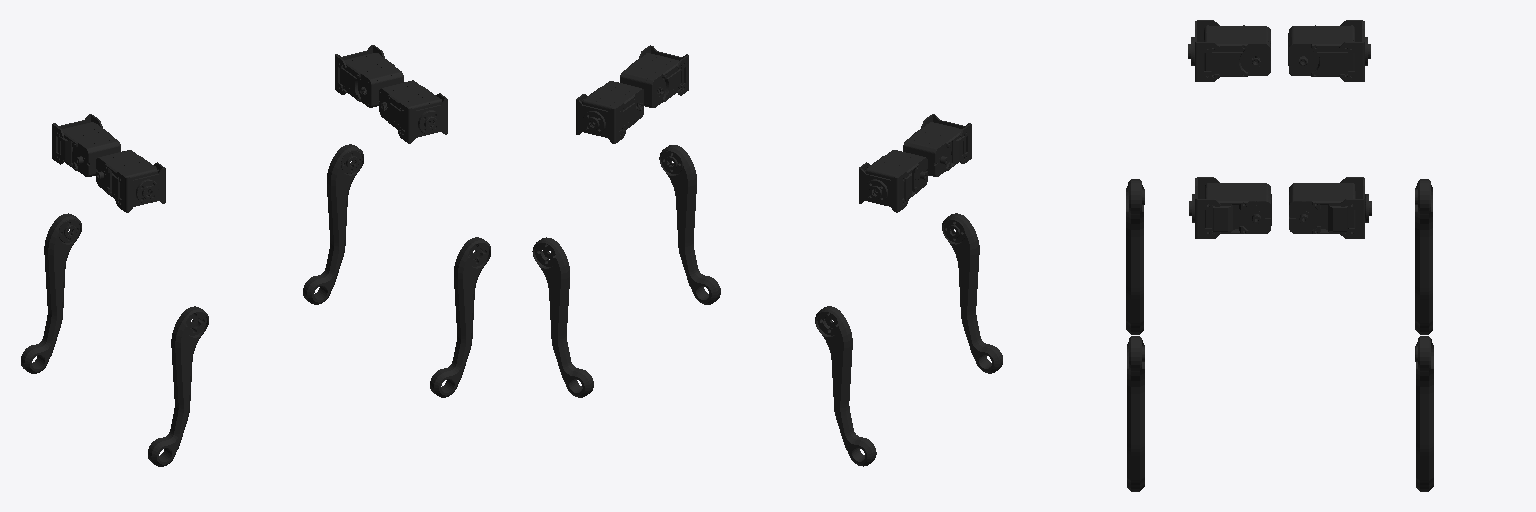
The robot description file, URDF, robot "barq":
<?xml version="1.0" ?>
<robot name="barq">

  <material name="dark_grey">  <color rgba="0.20 0.20 0.20 1.0"/> </material>
  <material name="light_grey"> <color rgba="0.65 0.65 0.65 1.0"/> </material>

  <!-- BASE LINK -->
  <link name="base_link">
    <visual>
      <origin rpy="0 0 -1.5708" xyz="0 0 0"/>
      <geometry><mesh filename="base_link.dae" scale="1 1 1"/></geometry>
      <material name="light_grey"/>
    </visual>
    <collision>
      <origin rpy="0 0 0" xyz="0 0 0"/>
      <geometry><box size="0.258 0.117 0.085"/></geometry>
    </collision>
    <inertial>
      <mass value="0.95"/>
      <origin rpy="0 0 0" xyz="0 0 0"/>
      <inertia ixx="3.0e-3" ixy="0" ixz="0" iyy="5.5e-3" iyz="0" izz="6.5e-3"/>
    </inertial>
  </link>

  <!-- ═══════════════ FL LEG ═══════════════ -->
  <joint name="FL_hip_joint" type="revolute">
    <parent link="base_link"/>    <child link="FL_coxa_link"/>
    <origin rpy="0 0 0" xyz="0.108484 0.0171913 0.00022012"/>
    <axis xyz="1 0 0"/>
    <limit effort="10.0" lower="-0.785" upper="0.785" velocity="5.24"/>
    <dynamics damping="0.05" friction="0.0"/>
  </joint>
  <link name="FL_coxa_link">
    <visual>
      <origin rpy="3.14159265358979 0 -1.5708" xyz="0 0 0"/>
      <geometry><mesh filename="coxa.dae" scale="1 1 1"/></geometry>
      <material name="dark_grey"/>
    </visual>
    <collision>
      <origin rpy="3.14159265358979 0 -1.5708" xyz="0 0 0"/>
      <geometry><mesh filename="coxa.dae" scale="1 1 1"/></geometry>
    </collision>
    <inertial>
      <mass value="0.077"/>
      <origin rpy="0 0 0" xyz="0.00872 0.0215346 0"/>
      <inertia ixx="1.0e-5" ixy="0" ixz="0" iyy="1.0e-4" iyz="0" izz="1.0e-4"/>
    </inertial>
  </link>

  <joint name="FL_knee_joint" type="revolute">
    <parent link="FL_coxa_link"/>    <child link="FL_femur_link"/>
    <origin rpy="0 0 0" xyz="0.01744 0.0430692 0"/>
    <axis xyz="0 1 0"/>
    <limit effort="10.0" lower="-1.57" upper="1.57" velocity="5.24"/>
    <dynamics damping="0.05" friction="0.0"/>
  </joint>
  <link name="FL_femur_link">
    <visual>
      <origin rpy="0 0 -1.5708" xyz="0 0 0"/>
      <geometry><mesh filename="mid.dae" scale="1 1 1"/></geometry>
      <material name="dark_grey"/>
    </visual>
    <collision>
      <origin rpy="0 0 -1.5708" xyz="0 0 0"/>
      <geometry><mesh filename="mid.dae" scale="1 1 1"/></geometry>
    </collision>
    <inertial>
      <mass value="0.05"/>
      <origin rpy="0 0 0" xyz="0.009472 0.01769995 -0.04999995"/>
      <inertia ixx="1.0e-4" ixy="0" ixz="0" iyy="1.0e-4" iyz="0" izz="1.0e-5"/>
    </inertial>
  </link>

  <joint name="FL_ankle_joint" type="revolute">
    <parent link="FL_femur_link"/>    <child link="FL_tibia_link"/>
    <origin rpy="0 0 0" xyz="0.018944 0.03239997 -0.0999999"/>
    <axis xyz="0 1 0"/>
    <limit effort="10.0" lower="-1.57" upper="1.57" velocity="5.24"/>
    <dynamics damping="0.05" friction="0.0"/>
  </joint>
  <link name="FL_tibia_link">
    <visual>
      <origin rpy="0 0 -1.5708" xyz="0 0 0"/>
      <geometry><mesh filename="foot.dae" scale="1 1 1"/></geometry>
      <material name="dark_grey"/>
    </visual>
    <collision>
      <origin rpy="0 0 -1.5708" xyz="0 0 0"/>
      <geometry><mesh filename="foot.dae" scale="1 1 1"/></geometry>
    </collision>
    <inertial>
      <mass value="0.05"/>
      <origin rpy="0 0 0" xyz="0 0 -0.04999995"/>
      <inertia ixx="1.0e-4" ixy="0" ixz="0" iyy="1.0e-4" iyz="0" izz="1.0e-5"/>
    </inertial>
  </link>

  <!-- ═══════════════ RL LEG ═══════════════ -->
  <joint name="RL_hip_joint" type="revolute">
    <parent link="base_link"/>    <child link="RL_coxa_link"/>
    <origin rpy="0 0 0" xyz="-0.108371 0.0167905 0.00022176"/>
    <axis xyz="1 0 0"/>
    <limit effort="10.0" lower="-0.785" upper="0.785" velocity="5.24"/>
    <dynamics damping="0.05" friction="0.0"/>
  </joint>
  <link name="RL_coxa_link">
    <visual>
      <origin rpy="0 0 -1.5708" xyz="0 0 0"/>
      <geometry><mesh filename="coxa.dae" scale="1 1 1"/></geometry>
      <material name="dark_grey"/>
    </visual>
    <collision>
      <origin rpy="0 0 -1.5708" xyz="0 0 0"/>
      <geometry><mesh filename="coxa.dae" scale="1 1 1"/></geometry>
    </collision>
    <inertial>
      <mass value="0.077"/>
      <origin rpy="0 0 0" xyz="-0.00872 0.0215346 0"/>
      <inertia ixx="1.0e-5" ixy="0" ixz="0" iyy="1.0e-4" iyz="0" izz="1.0e-4"/>
    </inertial>
  </link>

  <joint name="RL_knee_joint" type="revolute">
    <parent link="RL_coxa_link"/>    <child link="RL_femur_link"/>
    <origin rpy="0 0 0" xyz="-0.01744 0.0430692 0"/>
    <axis xyz="0 1 0"/>
    <limit effort="10.0" lower="-1.57" upper="1.57" velocity="5.24"/>
    <dynamics damping="0.05" friction="0.0"/>
  </joint>
  <link name="RL_femur_link">
    <visual>
      <origin rpy="0 0 -1.5708" xyz="0 0 0"/>
      <geometry><mesh filename="mid.dae" scale="1 1 1"/></geometry>
      <material name="dark_grey"/>
    </visual>
    <collision>
      <origin rpy="0 0 -1.5708" xyz="0 0 0"/>
      <geometry><mesh filename="mid.dae" scale="1 1 1"/></geometry>
    </collision>
    <inertial>
      <mass value="0.05"/>
      <origin rpy="0 0 0" xyz="0.009472 0.01769995 -0.04999995"/>
      <inertia ixx="1.0e-4" ixy="0" ixz="0" iyy="1.0e-4" iyz="0" izz="1.0e-5"/>
    </inertial>
  </link>

  <joint name="RL_ankle_joint" type="revolute">
    <parent link="RL_femur_link"/>    <child link="RL_tibia_link"/>
    <origin rpy="0 0 0" xyz="0.018944 0.03239997 -0.0999999"/>
    <axis xyz="0 1 0"/>
    <limit effort="10.0" lower="-1.57" upper="1.57" velocity="5.24"/>
    <dynamics damping="0.05" friction="0.0"/>
  </joint>
  <link name="RL_tibia_link">
    <visual>
      <origin rpy="0 0 -1.5708" xyz="0 0 0"/>
      <geometry><mesh filename="foot.dae" scale="1 1 1"/></geometry>
      <material name="dark_grey"/>
    </visual>
    <collision>
      <origin rpy="0 0 -1.5708" xyz="0 0 0"/>
      <geometry><mesh filename="foot.dae" scale="1 1 1"/></geometry>
    </collision>
    <inertial>
      <mass value="0.05"/>
      <origin rpy="0 0 0" xyz="0 0 -0.04999995"/>
      <inertia ixx="1.0e-4" ixy="0" ixz="0" iyy="1.0e-4" iyz="0" izz="1.0e-5"/>
    </inertial>
  </link>

  <!-- ═══════════════ FR LEG ═══════════════ -->
  <joint name="FR_hip_joint" type="revolute">
    <parent link="base_link"/>    <child link="FR_coxa_link"/>
    <origin rpy="0 0 0" xyz="0.108484 -0.0148092 0.00022176"/>
    <axis xyz="1 0 0"/>
    <limit effort="10.0" lower="-0.785" upper="0.785" velocity="5.24"/>
    <dynamics damping="0.05" friction="0.0"/>
  </joint>
  <link name="FR_coxa_link">
    <visual>
      <origin rpy="0 0 1.5708" xyz="0 0 0"/>
      <geometry><mesh filename="coxa.dae" scale="1 1 1"/></geometry>
      <material name="dark_grey"/>
    </visual>
    <collision>
      <origin rpy="0 0 1.5708" xyz="0 0 0"/>
      <geometry><mesh filename="coxa.dae" scale="1 1 1"/></geometry>
    </collision>
    <inertial>
      <mass value="0.077"/>
      <origin rpy="0 0 0" xyz="0.00872 -0.0215346 0"/>
      <inertia ixx="1.0e-5" ixy="0" ixz="0" iyy="1.0e-4" iyz="0" izz="1.0e-4"/>
    </inertial>
  </link>

  <joint name="FR_knee_joint" type="revolute">
    <parent link="FR_coxa_link"/>    <child link="FR_femur_link"/>
    <origin rpy="0 0 0" xyz="0.01744 -0.0430692 0"/>
    <axis xyz="0 1 0"/>
    <limit effort="10.0" lower="-1.57" upper="1.57" velocity="5.24"/>
    <dynamics damping="0.05" friction="0.0"/>
  </joint>
  <link name="FR_femur_link">
    <visual>
      <origin rpy="0 0 -1.5708" xyz="0 0 0"/>
      <geometry><mesh filename="mid_rev.dae" scale="1 1 1"/></geometry>
      <material name="dark_grey"/>
    </visual>
    <collision>
      <origin rpy="0 0 -1.5708" xyz="0 0 0"/>
      <geometry><mesh filename="mid_rev.dae" scale="1 1 1"/></geometry>
    </collision>
    <inertial>
      <mass value="0.05"/>
      <origin rpy="0 0 0" xyz="0.00947205 -0.01769995 -0.04999995"/>
      <inertia ixx="1.0e-4" ixy="0" ixz="0" iyy="1.0e-4" iyz="0" izz="1.0e-5"/>
    </inertial>
  </link>

  <joint name="FR_ankle_joint" type="revolute">
    <parent link="FR_femur_link"/>    <child link="FR_tibia_link"/>
    <origin rpy="0 0 0" xyz="0.0189441 -0.03239997 -0.0999999"/>
    <axis xyz="0 1 0"/>
    <limit effort="10.0" lower="-1.57" upper="1.57" velocity="5.24"/>
    <dynamics damping="0.05" friction="0.0"/>
  </joint>
  <link name="FR_tibia_link">
    <visual>
      <origin rpy="0 0 -1.5708" xyz="0 0 0"/>
      <geometry><mesh filename="foot_rev.dae" scale="1 1 1"/></geometry>
      <material name="dark_grey"/>
    </visual>
    <collision>
      <origin rpy="0 0 -1.5708" xyz="0 0 0"/>
      <geometry><mesh filename="foot_rev.dae" scale="1 1 1"/></geometry>
    </collision>
    <inertial>
      <mass value="0.05"/>
      <origin rpy="0 0 0" xyz="0 0 -0.04999995"/>
      <inertia ixx="1.0e-4" ixy="0" ixz="0" iyy="1.0e-4" iyz="0" izz="1.0e-5"/>
    </inertial>
  </link>

  <!-- ═══════════════ RR LEG ═══════════════ -->
  <joint name="RR_hip_joint" type="revolute">
    <parent link="base_link"/>    <child link="RR_coxa_link"/>
    <origin rpy="0 0 0" xyz="-0.108371 -0.01521 0.00022012"/>
    <axis xyz="1 0 0"/>
    <limit effort="10.0" lower="-0.785" upper="0.785" velocity="5.24"/>
    <dynamics damping="0.05" friction="0.0"/>
  </joint>
  <link name="RR_coxa_link">
    <visual>
      <origin rpy="3.14159265358979 0 1.5708" xyz="0 0 0"/>
      <geometry><mesh filename="coxa.dae" scale="1 1 1"/></geometry>
      <material name="dark_grey"/>
    </visual>
    <collision>
      <origin rpy="3.14159265358979 0 1.5708" xyz="0 0 0"/>
      <geometry><mesh filename="coxa.dae" scale="1 1 1"/></geometry>
    </collision>
    <inertial>
      <mass value="0.077"/>
      <origin rpy="0 0 0" xyz="-0.00872 -0.0215346 0"/>
      <inertia ixx="1.0e-5" ixy="0" ixz="0" iyy="1.0e-4" iyz="0" izz="1.0e-4"/>
    </inertial>
  </link>

  <joint name="RR_knee_joint" type="revolute">
    <parent link="RR_coxa_link"/>    <child link="RR_femur_link"/>
    <origin rpy="0 0 0" xyz="-0.01744 -0.0430692 0"/>
    <axis xyz="0 1 0"/>
    <limit effort="10.0" lower="-1.57" upper="1.57" velocity="5.24"/>
    <dynamics damping="0.05" friction="0.0"/>
  </joint>
  <link name="RR_femur_link">
    <visual>
      <origin rpy="0 0 -1.5708" xyz="0 0 0"/>
      <geometry><mesh filename="mid_rev.dae" scale="1 1 1"/></geometry>
      <material name="dark_grey"/>
    </visual>
    <collision>
      <origin rpy="0 0 -1.5708" xyz="0 0 0"/>
      <geometry><mesh filename="mid_rev.dae" scale="1 1 1"/></geometry>
    </collision>
    <inertial>
      <mass value="0.05"/>
      <origin rpy="0 0 0" xyz="0.00947205 -0.01769995 -0.04999995"/>
      <inertia ixx="1.0e-4" ixy="0" ixz="0" iyy="1.0e-4" iyz="0" izz="1.0e-5"/>
    </inertial>
  </link>

  <joint name="RR_ankle_joint" type="revolute">
    <parent link="RR_femur_link"/>    <child link="RR_tibia_link"/>
    <origin rpy="0 0 0" xyz="0.0189441 -0.03239997 -0.0999999"/>
    <axis xyz="0 1 0"/>
    <limit effort="10.0" lower="-1.57" upper="1.57" velocity="5.24"/>
    <dynamics damping="0.05" friction="0.0"/>
  </joint>
  <link name="RR_tibia_link">
    <visual>
      <origin rpy="0 0 -1.5708" xyz="0 0 0"/>
      <geometry><mesh filename="foot_rev.dae" scale="1 1 1"/></geometry>
      <material name="dark_grey"/>
    </visual>
    <collision>
      <origin rpy="0 0 -1.5708" xyz="0 0 0"/>
      <geometry><mesh filename="foot_rev.dae" scale="1 1 1"/></geometry>
    </collision>
    <inertial>
      <mass value="0.05"/>
      <origin rpy="0 0 0" xyz="0 0 -0.04999995"/>
      <inertia ixx="1.0e-4" ixy="0" ixz="0" iyy="1.0e-4" iyz="0" izz="1.0e-5"/>
    </inertial>
  </link>

</robot>

--- Facts derived from the render (not from the file) ---
Views: 3 orthographic renders of the robot side by side, from view 1: azimuth 30°, elevation 25°; view 2: azimuth 150°, elevation 25°; view 3: azimuth 270°, elevation 25°.
Robot: barq — 13 links, 12 joints (12 revolute); root link base_link; default pose: all joints at 0.
Visible links, largest first — view 1: FL_tibia_link, FR_tibia_link, RR_tibia_link, RL_tibia_link, RR_coxa_link, FR_coxa_link, RL_coxa_link, FL_coxa_link; view 2: FL_tibia_link, RL_tibia_link, FR_tibia_link, RR_tibia_link, RL_coxa_link, FL_coxa_link, FR_coxa_link, RR_coxa_link; view 3: FR_coxa_link, FL_coxa_link, RL_coxa_link, RR_coxa_link, FL_tibia_link, RR_tibia_link, RL_tibia_link, FR_tibia_link.
Link boxes in pixels (left/top/right/bottom): FL_tibia_link: left=303, top=144, right=363, bottom=304; FR_tibia_link: left=430, top=237, right=490, bottom=397; RR_tibia_link: left=148, top=306, right=208, bottom=466; RL_tibia_link: left=21, top=213, right=81, bottom=373; RR_coxa_link: left=96, top=150, right=165, bottom=212; FR_coxa_link: left=379, top=80, right=447, bottom=143; RL_coxa_link: left=52, top=114, right=120, bottom=176; FL_coxa_link: left=335, top=45, right=403, bottom=107; FL_tibia_link: left=532, top=237, right=593, bottom=397; RL_tibia_link: left=815, top=306, right=876, bottom=466; FR_tibia_link: left=659, top=145, right=720, bottom=304; RR_tibia_link: left=942, top=213, right=1002, bottom=373; RL_coxa_link: left=859, top=150, right=927, bottom=212; FL_coxa_link: left=576, top=81, right=643, bottom=143; FR_coxa_link: left=620, top=45, right=688, bottom=107; RR_coxa_link: left=903, top=114, right=971, bottom=176; FR_coxa_link: left=1189, top=177, right=1271, bottom=238; FL_coxa_link: left=1289, top=177, right=1371, bottom=238; RL_coxa_link: left=1288, top=20, right=1370, bottom=81; RR_coxa_link: left=1188, top=20, right=1270, bottom=81; FL_tibia_link: left=1415, top=336, right=1433, bottom=491; RR_tibia_link: left=1126, top=179, right=1144, bottom=334; RL_tibia_link: left=1415, top=179, right=1432, bottom=334; FR_tibia_link: left=1127, top=336, right=1144, bottom=491.
Bounding box of the posed robot: 0.3032 × 0.2083 × 0.2299 m (x, y, z).
Meshes: 6 distinct files referenced, 8 mesh visuals loaded (3 Collada DAE); not drawn: 5 (reference not matched to a file when rendering).
